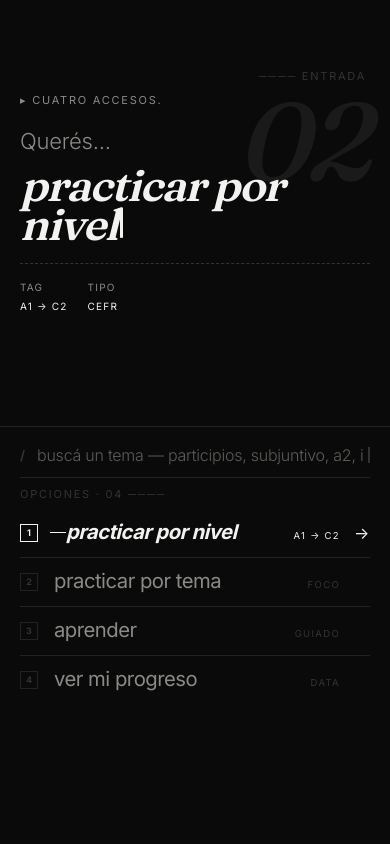
TopicSearch in StepView › replaces the options with live results as the user types, no Enter
The image size is (390, 844).
Type "subjuntivo" into the dropdown at point(200, 455), box [37,443,364,467]
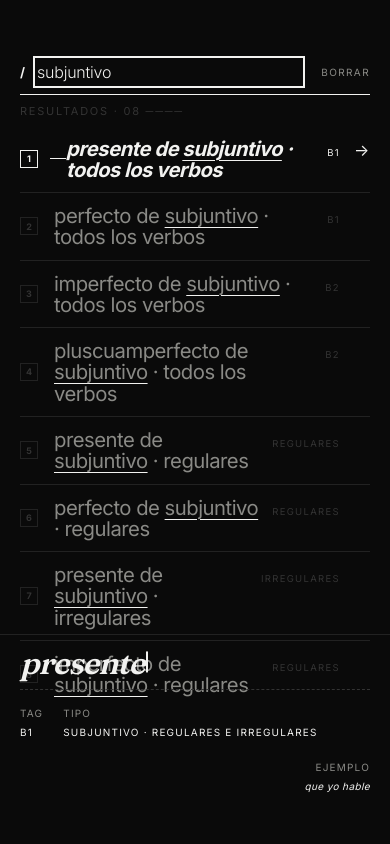
Expected: the option "1 presente de subjuntivo · todos los verbos B1 →" is shown, [20,126,370,193]
Expected: the list shows "presente de subjuntivo"
Expected: the button "practicar por nivel" is gone
